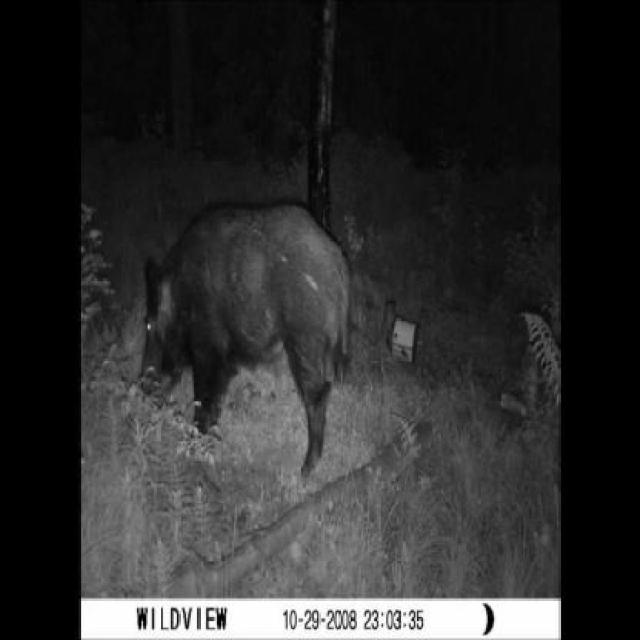wildboar: (133, 201, 349, 481)
